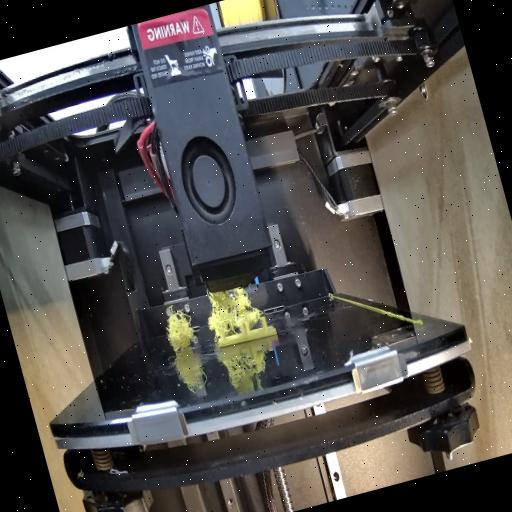spaghetti: (198, 277, 264, 338), (156, 306, 198, 356)
